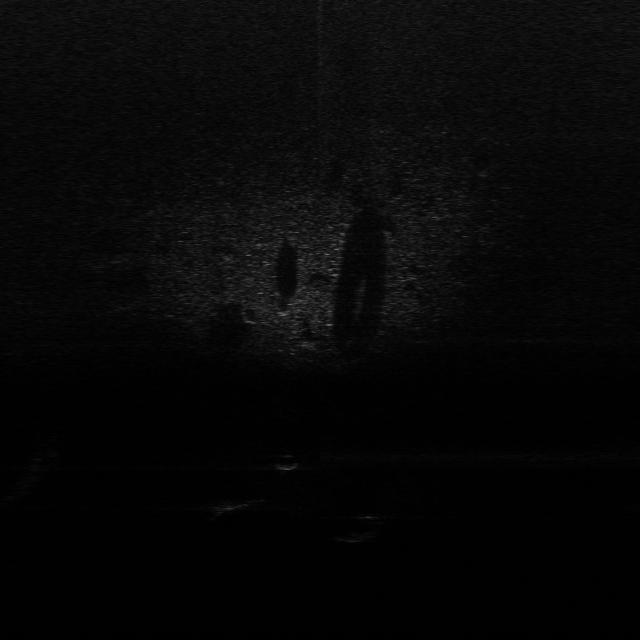ball: (274, 449, 304, 473)
square cage: (213, 492, 271, 522)
tyre: (342, 513, 389, 547)
